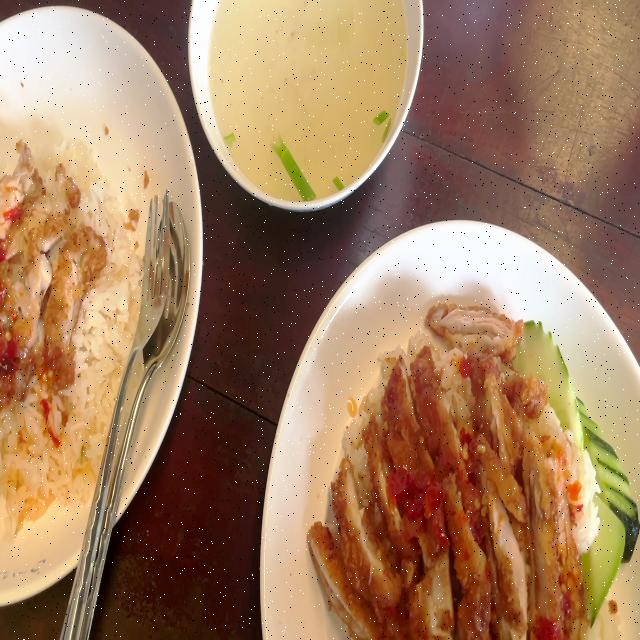chicken_rice: (305, 293, 640, 640), (0, 138, 139, 538)
cucumber: (570, 387, 640, 617), (512, 318, 584, 464)
fried_chicken: (311, 300, 573, 640), (0, 136, 107, 403)
